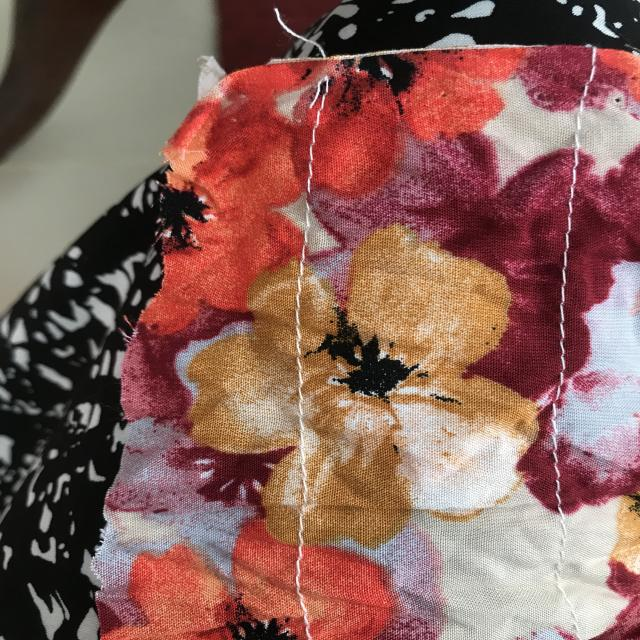good: (276, 274, 322, 484), (557, 211, 581, 340), (299, 111, 327, 186)
